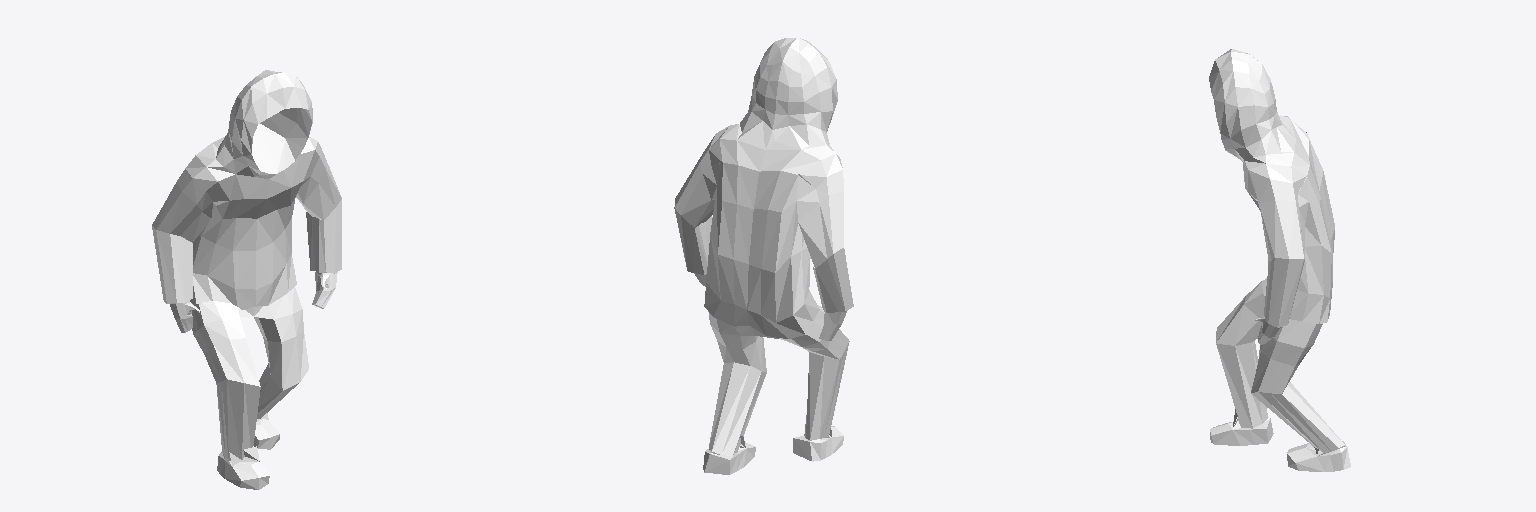
The model's file is Shadowmanv_000038.obj.
3 renders of one model, left to right at view 1: azimuth 30°, elevation 25°; view 2: azimuth 150°, elevation 25°; view 3: azimuth 270°, elevation 25°, orthographic.
Parts seen in each view (by area): view 1: Cube.000; view 2: Cube.000; view 3: Cube.000.
Part boxes in pixels (bbox=[...]): Cube.000: bbox=[152, 70, 341, 489]; Cube.000: bbox=[674, 38, 853, 474]; Cube.000: bbox=[1209, 49, 1350, 471].
Size of the model in its own units: 4.94 by 10.84 by 3.47.